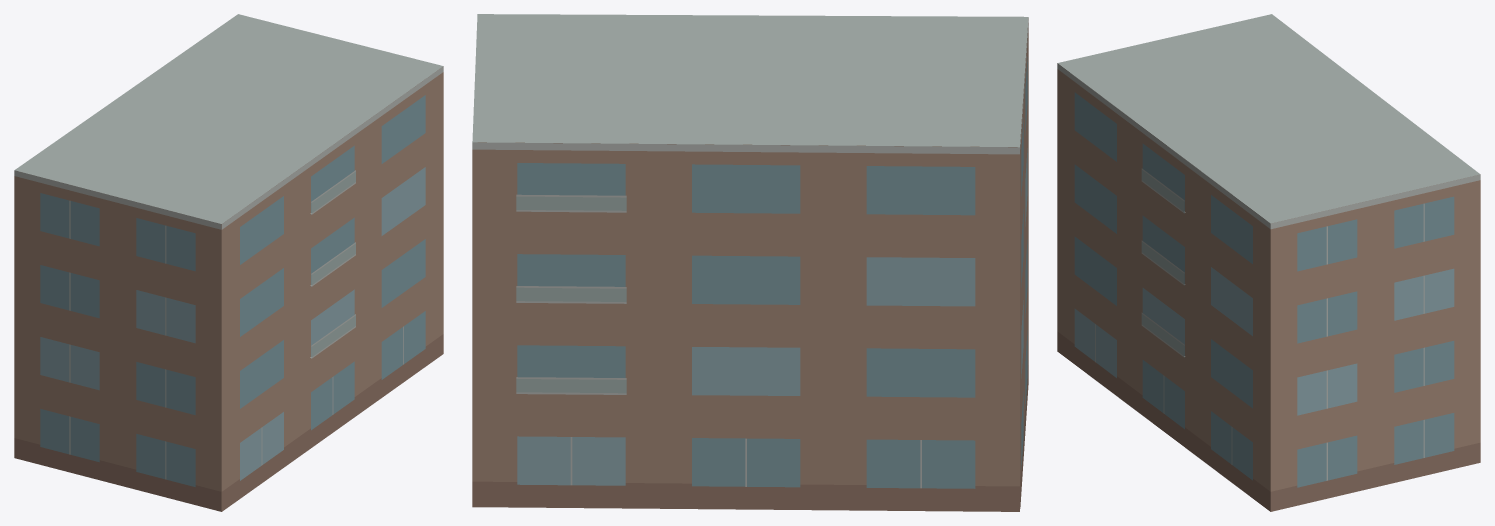
File: survey-upis-32905733.glb
The picture shows the model from 3 angles, left to right: view 1: azimuth 30°, elevation 25°; view 2: azimuth 150°, elevation 25°; view 3: azimuth 270°, elevation 25°; orthographic projection. The views are drawn at different scales.
Parts seen in each view (by area): view 1: survey-upis-32905733.tmp; view 2: survey-upis-32905733.tmp; view 3: survey-upis-32905733.tmp.
Boxes of the visible parts, bbox=[...] form: survey-upis-32905733.tmp: bbox=[14, 14, 443, 511]; survey-upis-32905733.tmp: bbox=[472, 14, 1028, 511]; survey-upis-32905733.tmp: bbox=[1057, 14, 1480, 511].
Size of the model in its own units: 19.03 by 12.2 by 16.24.
